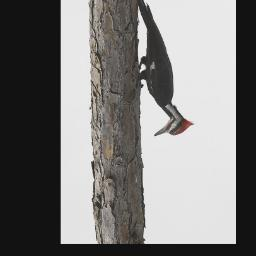Woodpecker: (138, 0, 195, 137)
